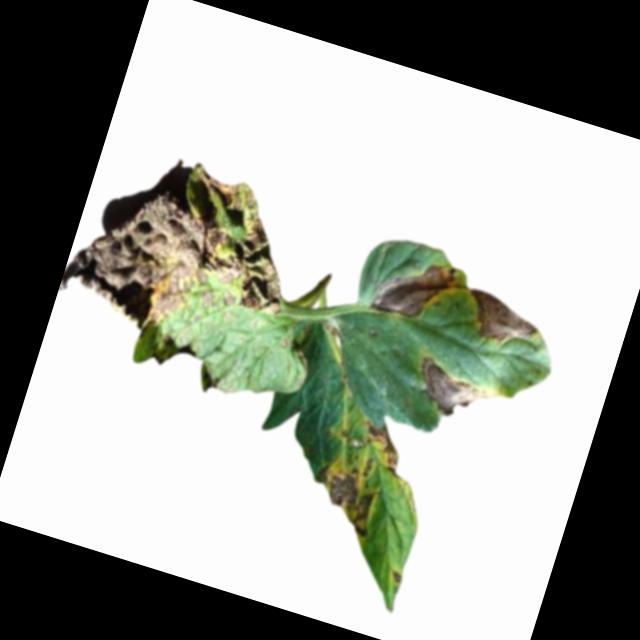Early_blight: (52, 134, 316, 373), (300, 450, 386, 542), (370, 250, 461, 332), (407, 353, 498, 429), (456, 287, 544, 354), (351, 419, 410, 475), (387, 568, 405, 586)
